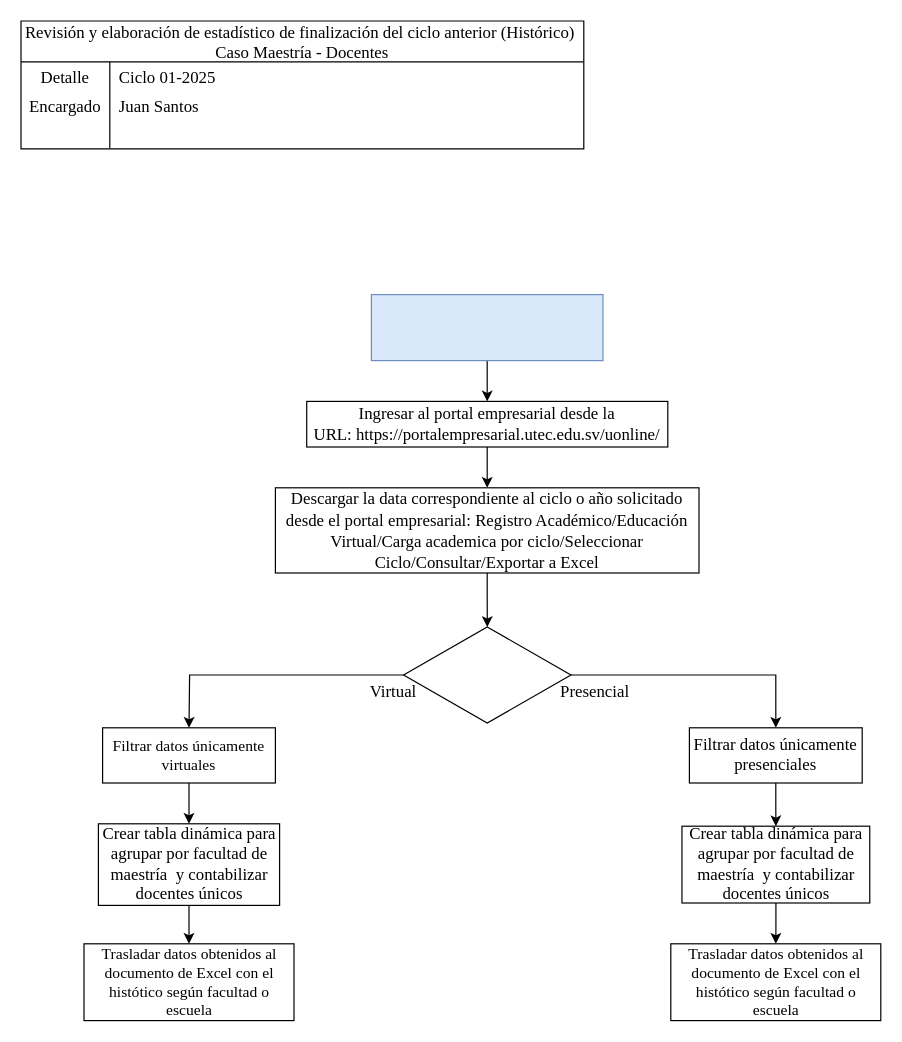
This 902x1042 diagram has some shape labels left out. Here are the shapes that lost their labels. From the top down, the centre of each, then its label:
the point at 486,327: Revisión y elaboración de estadístico de finalización del ciclo anterior
the point at 486,674: ¿Presencial o virtual?
